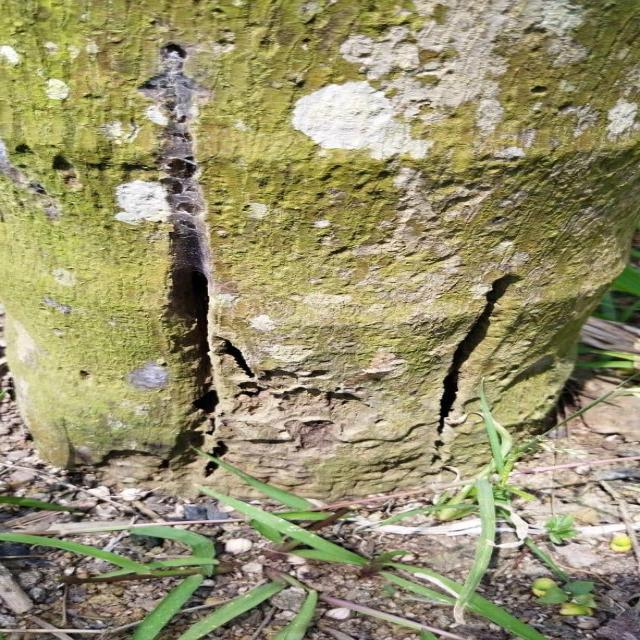Stem_Cracking: (80, 103, 575, 460)
